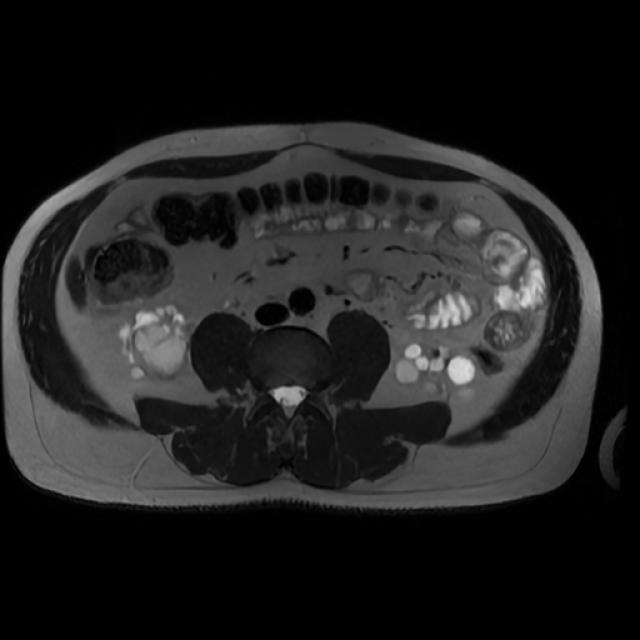sag: (119, 303, 189, 381)
sol: (393, 343, 478, 398)
